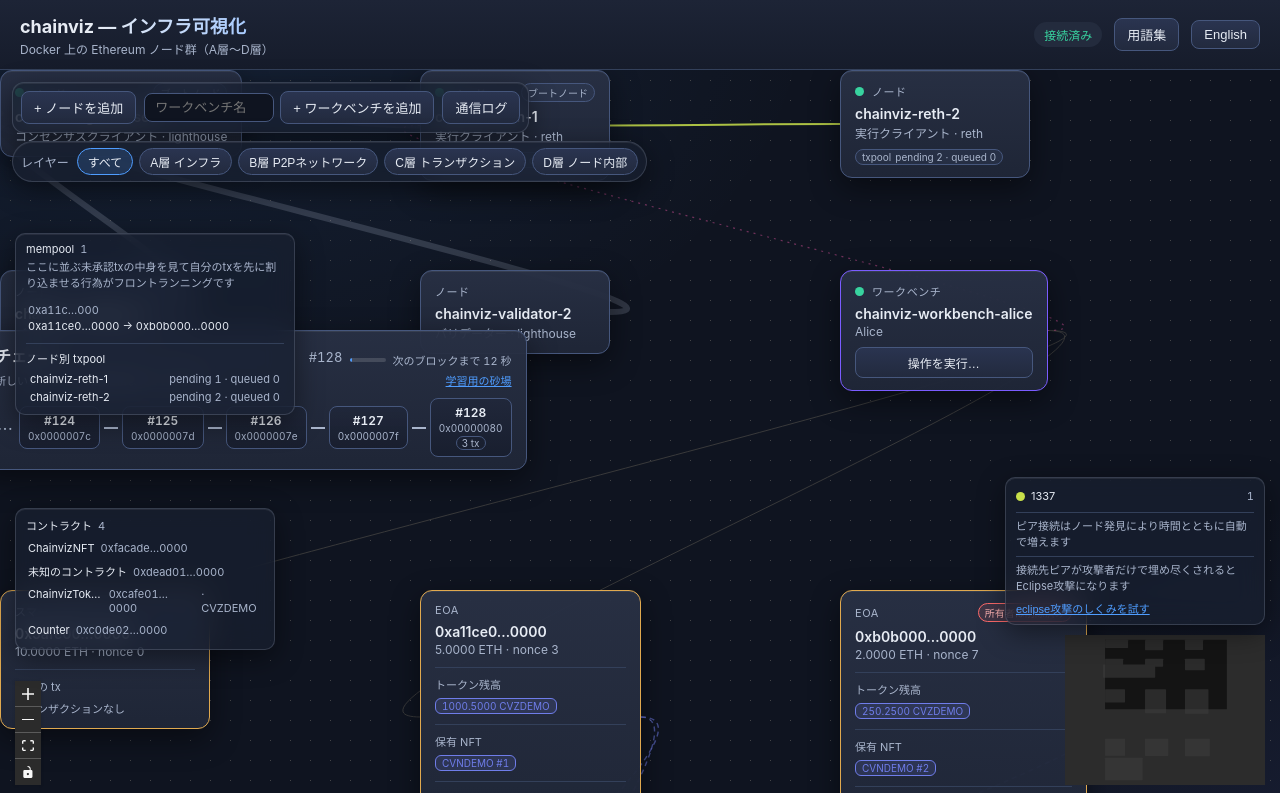
Test: App: glossary panel wiring (Issue #313) › closes the glossary panel on a second click of the header button
This screenshot has width=1280, height=793.
Expected: the element with test id "infra-card-reth-node-1" is shown, [420, 70, 610, 181]
Click the button with test id "glossary-open-button".
click(1147, 34)  # box [1114, 18, 1179, 51]
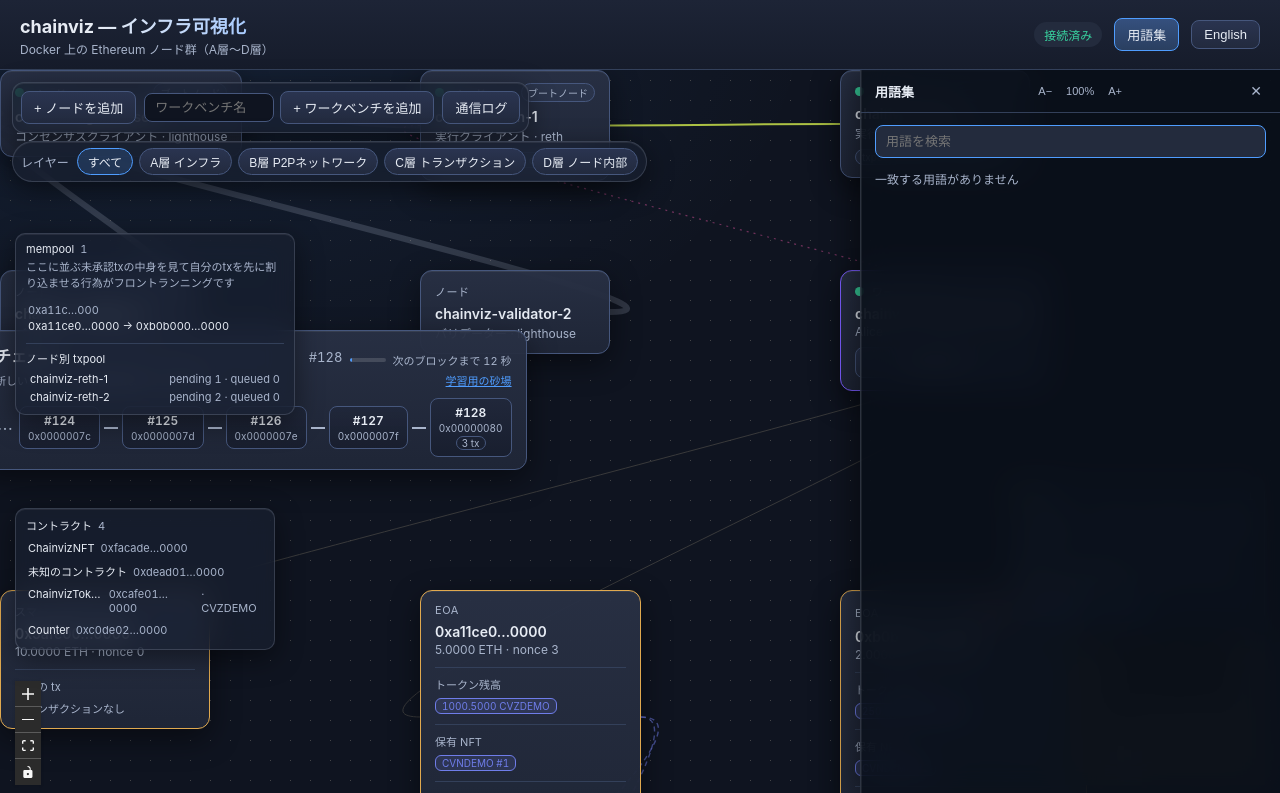
Click the button with test id "glossary-open-button".
click(1147, 34)  # box [1114, 18, 1179, 51]
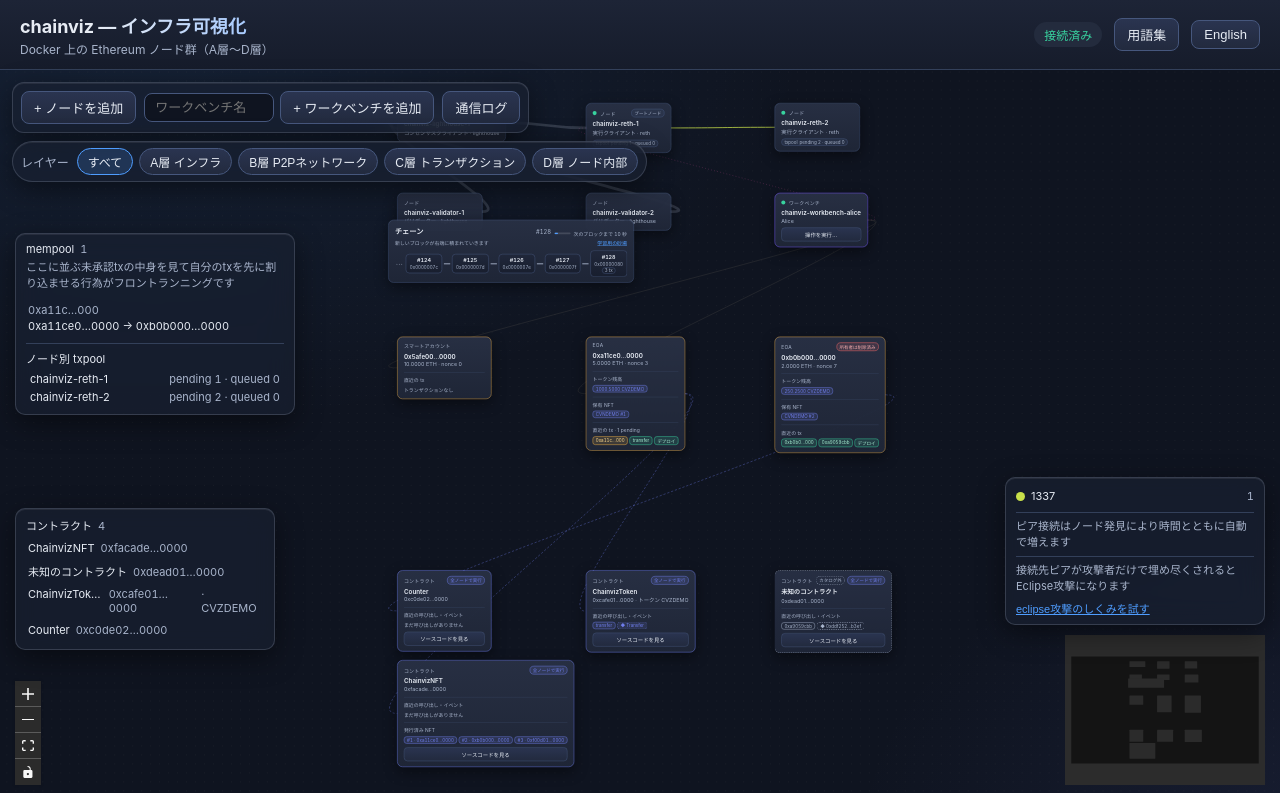
Expected: the element with test id "glossary-panel" is gone
